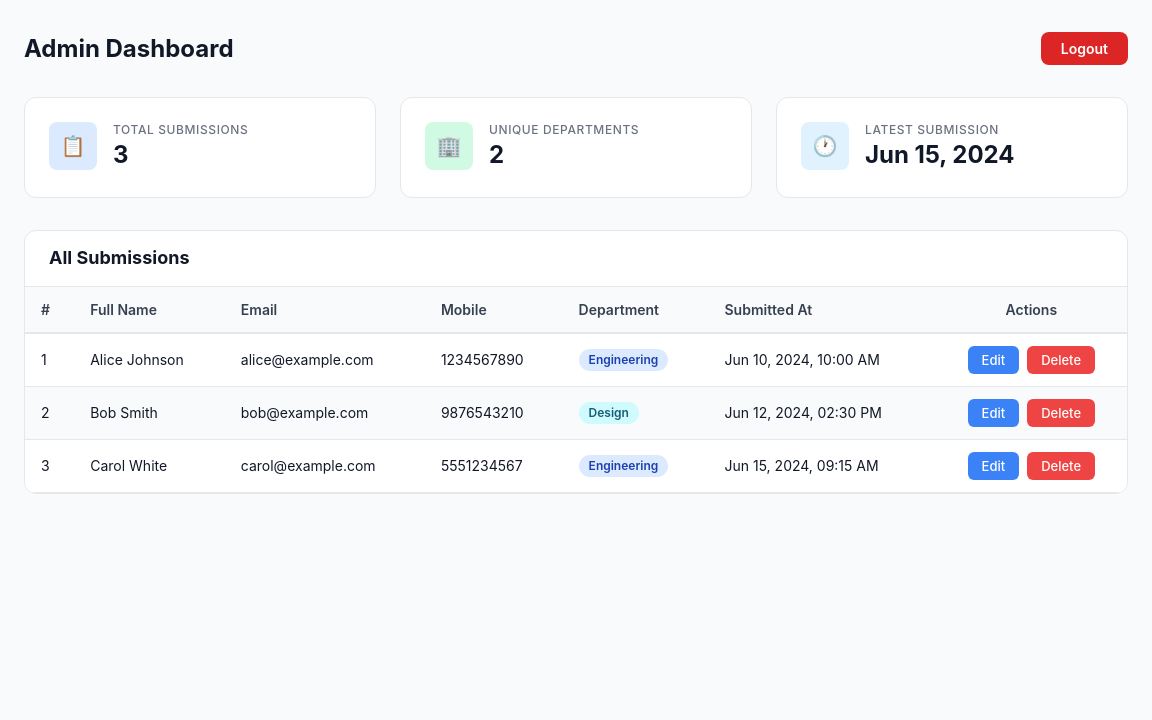
Test: AdminDashboard › edit modal › closes edit modal when cancel button is clicked
Click the button with aria-label "Edit submission for Alice Johnson" at [993, 360], box [968,346,1019,374]
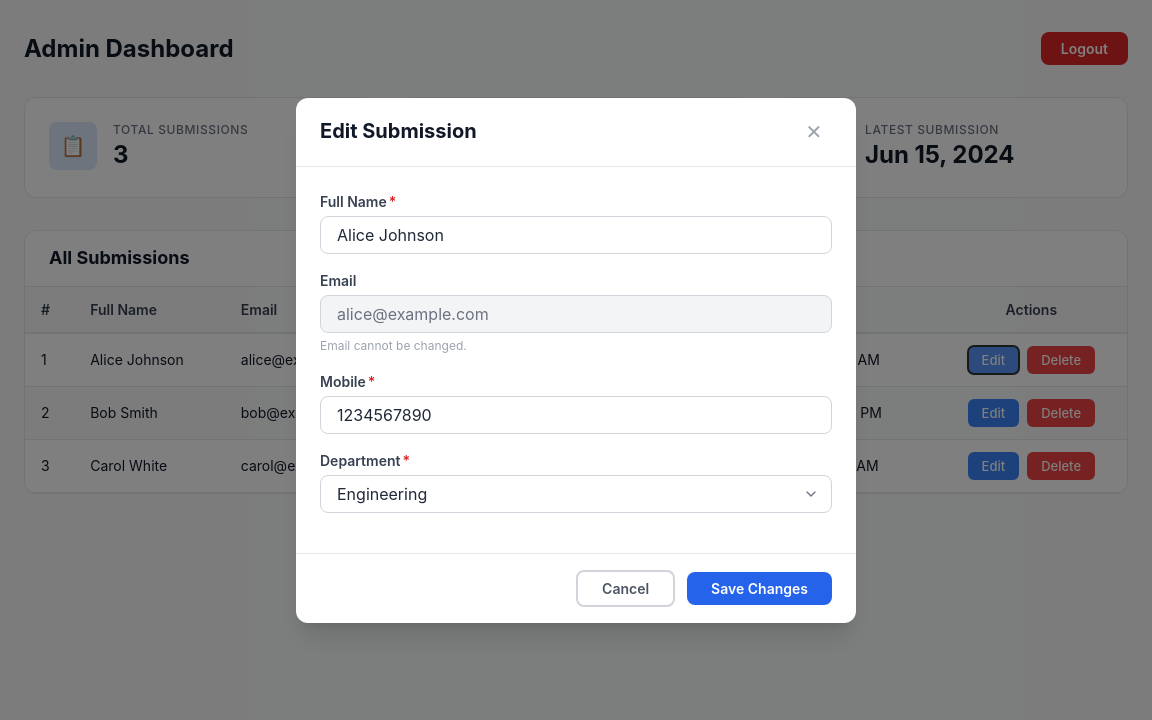
Expected: the heading "Edit Submission" is shown, [320,119,477,144]
Click the button "Cancel" at [626, 588], box [576,570,675,606]
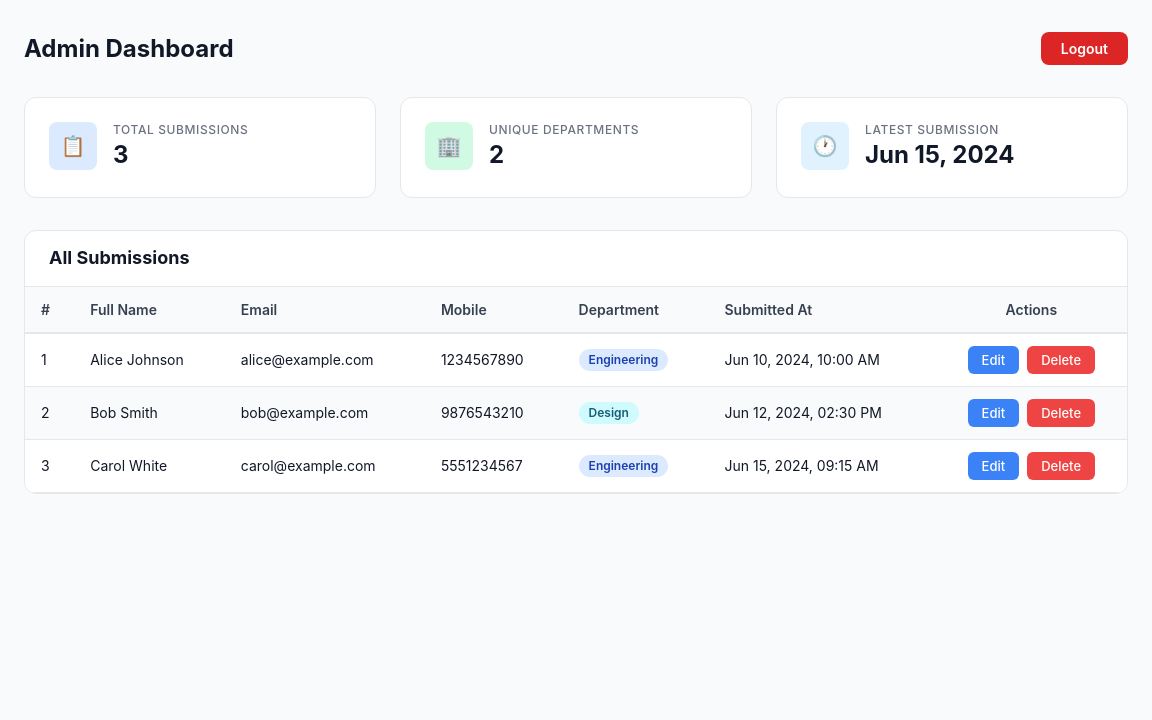
Expected: the heading "Edit Submission" is gone
